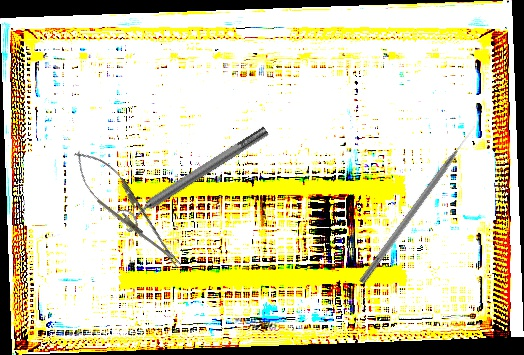Fixation Ring: (114, 119, 275, 235)
Hook Surgical: (358, 123, 479, 286)
Needle Holder: (63, 140, 192, 279)
